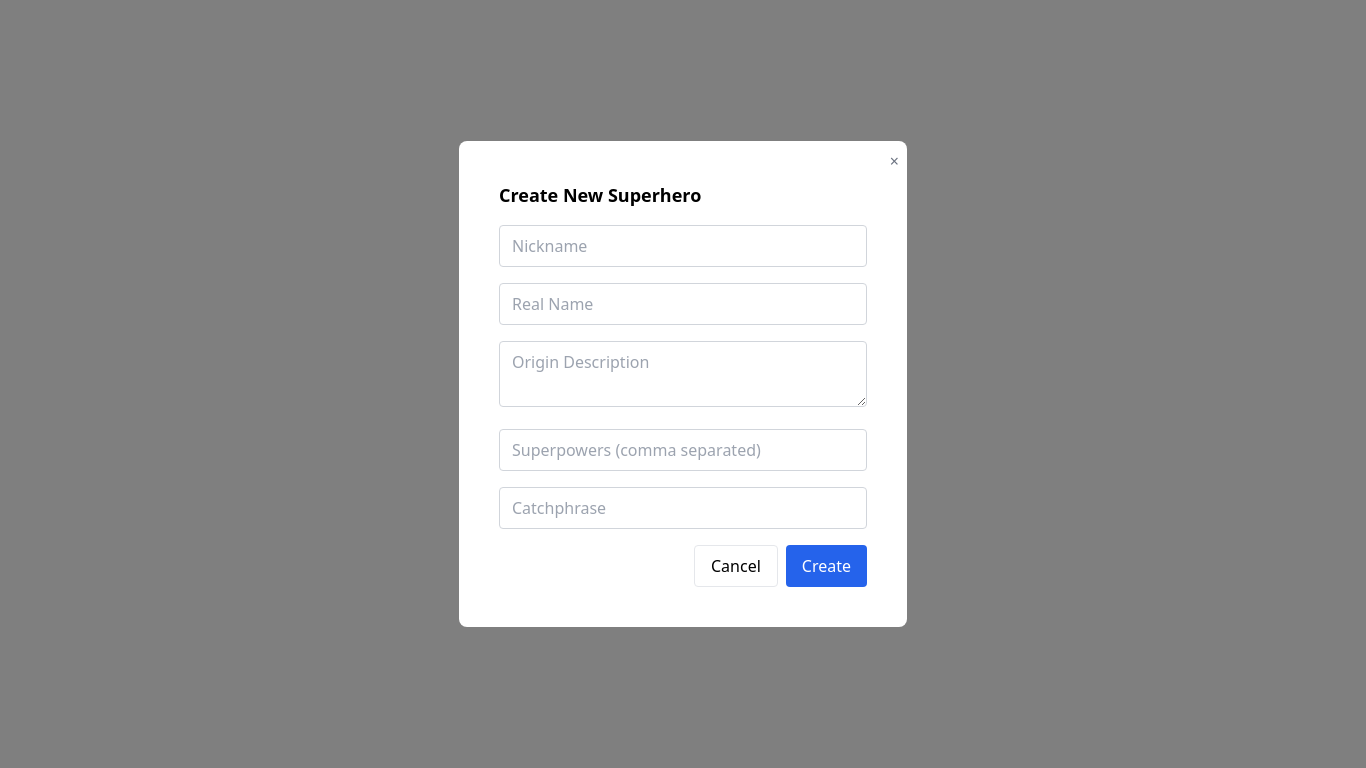
Test case: SuperheroCreateForm › shows validation errors if required fields are empty on submit
The image size is (1366, 768).
Click the button "Create".
click(826, 566)  # box [786, 545, 867, 587]
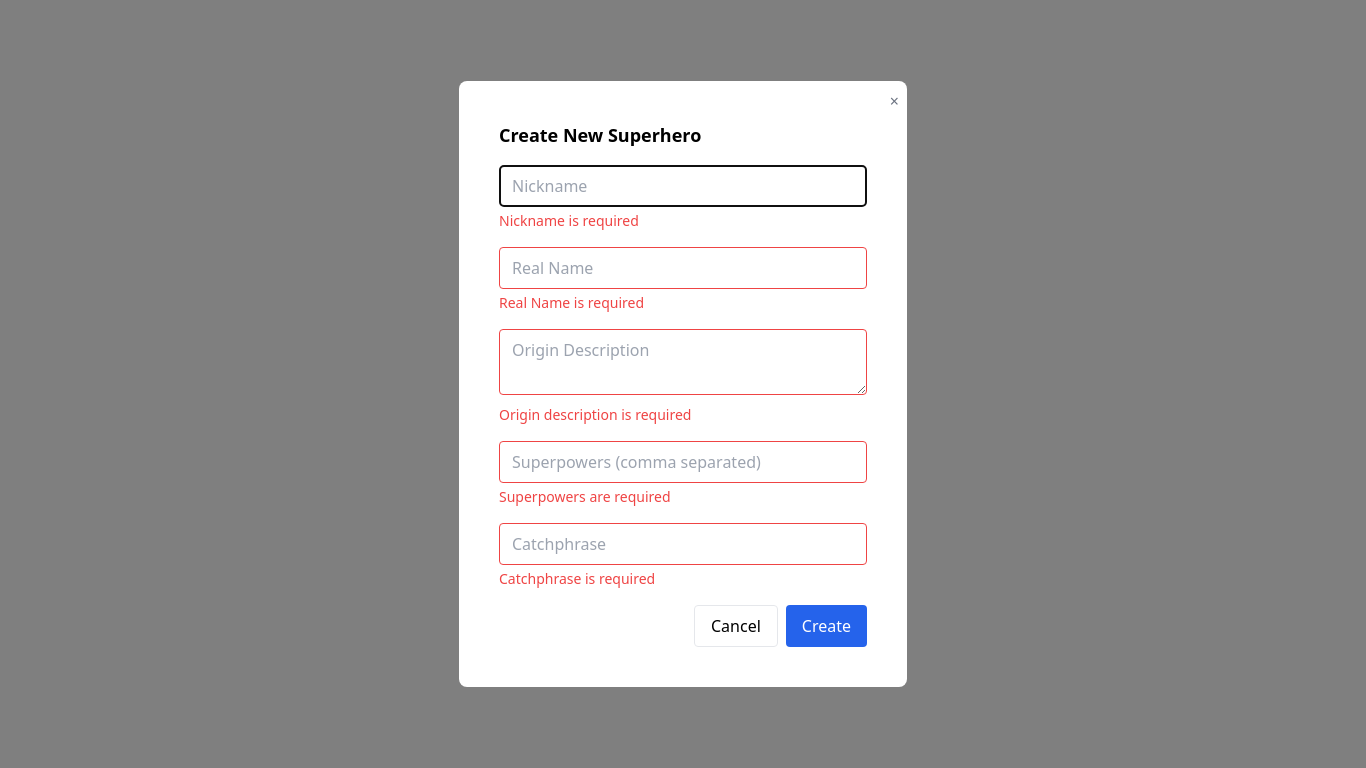
Now the text "Nickname is required" is shown, box [499, 211, 639, 230]
